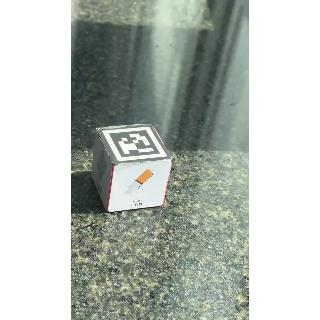Syringe: (113, 165, 170, 212)
